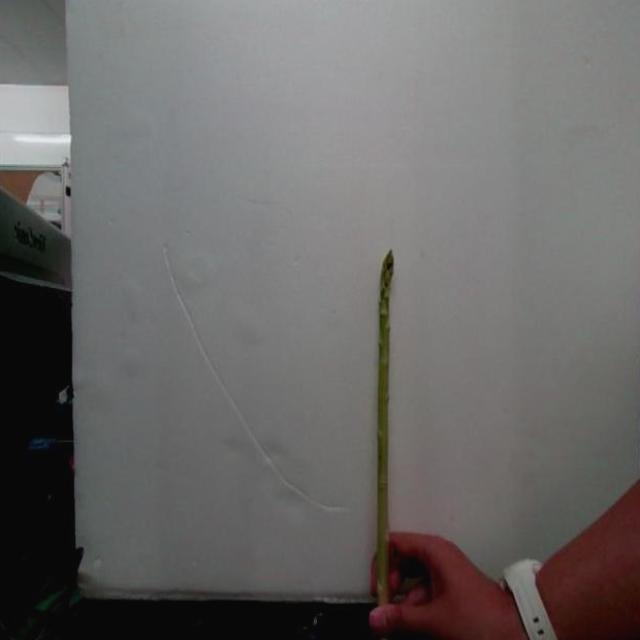aspargus: (374, 253, 398, 606)
